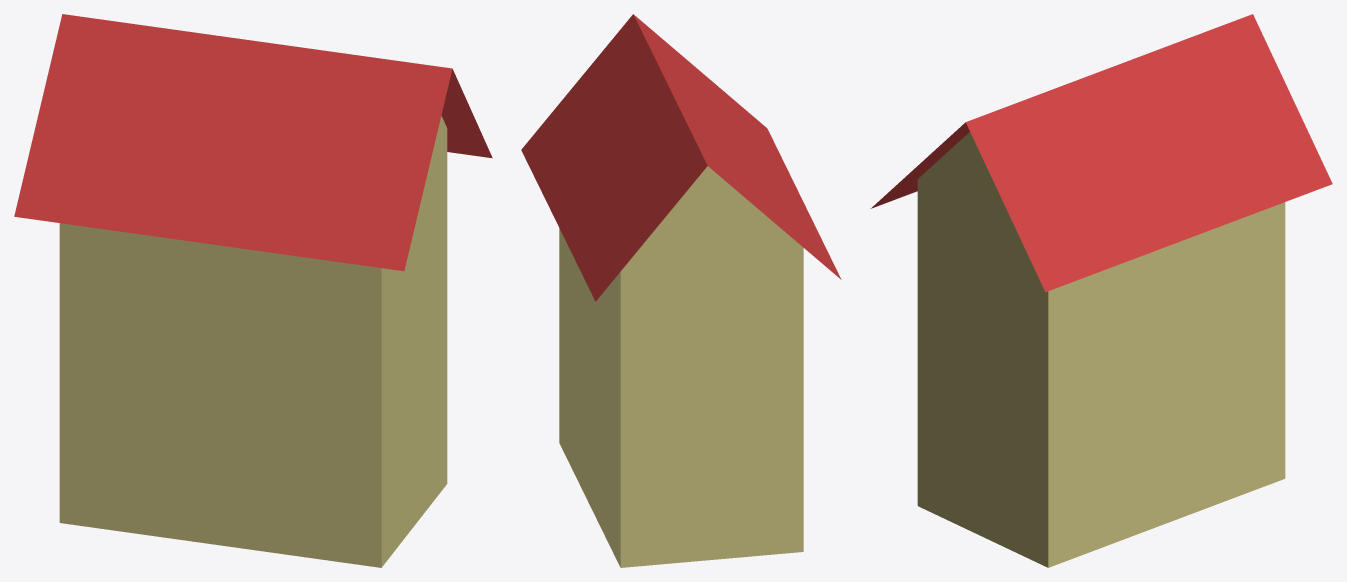
3 views of the same model, side by side, from view 1: azimuth 30°, elevation 25°; view 2: azimuth 150°, elevation 25°; view 3: azimuth 270°, elevation 25° (orthographic). The views are drawn at different scales.
Size of the model in its own units: 6.72 by 6.86 by 7.
